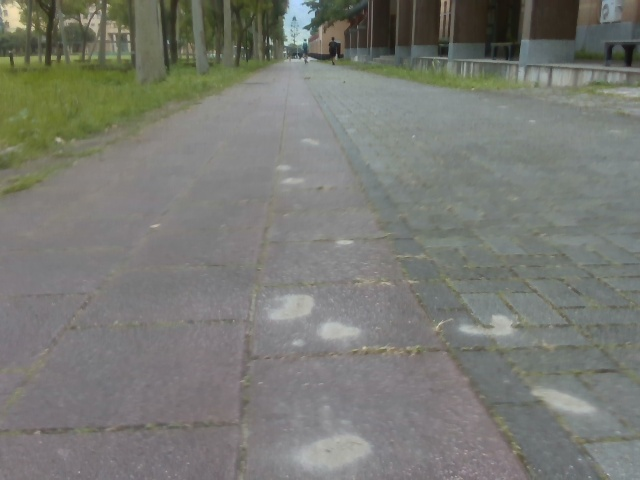grass: (0, 57, 276, 179), (163, 0, 362, 68), (324, 59, 612, 95), (0, 0, 134, 65)
road: (0, 59, 639, 479)
